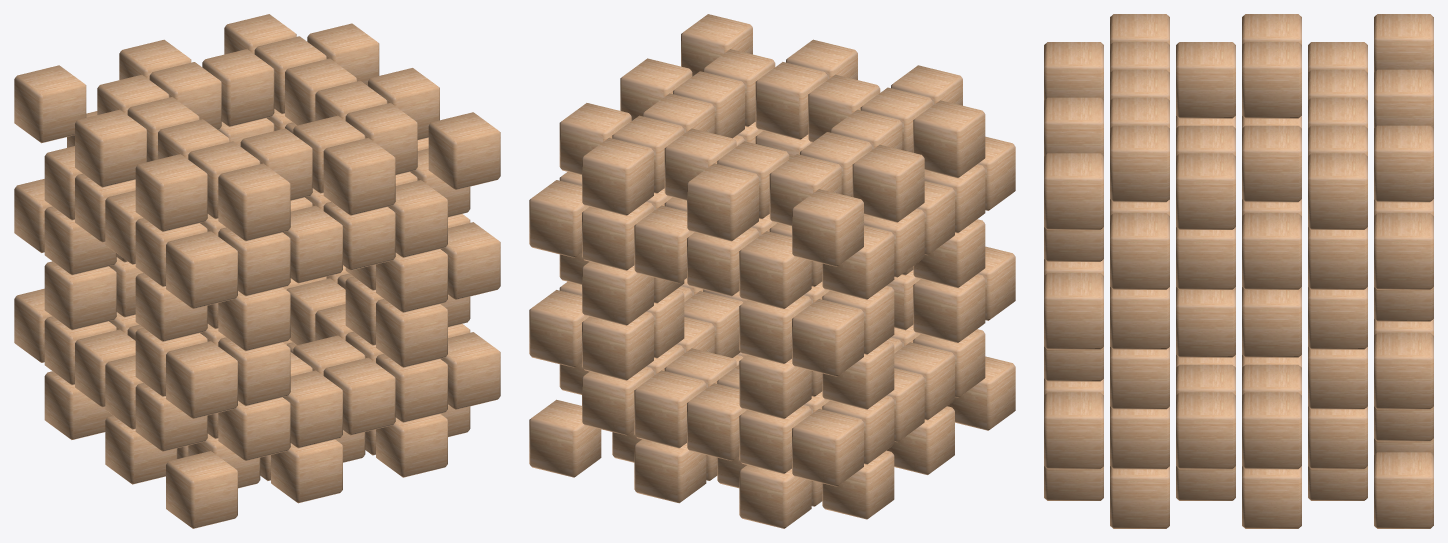
The model's file is level_121.fbx.
3 renders of one model, left to right at view 1: azimuth 30°, elevation 25°; view 2: azimuth 150°, elevation 25°; view 3: azimuth 270°, elevation 25°, orthographic. The views are drawn at different scales.
Visible parts, largest first — view 1: Cube.182, Cube.186, Cube.184, Cube.187, Cube.042, Cube.073, Cube.145, Cube.211, Cube.199, Cube.097, Cube.077, Cube.208 (+56 smaller); view 2: Cube.211, Cube.067, Cube.215, Cube.139, Cube.213, Cube.187, Cube.199, Cube.035, Cube.176, Cube.079, Cube.107, Cube.190 (+56 smaller); view 3: Cube.054, Cube.060, Cube.203, Cube.041, Cube.108, Cube.191, Cube.215, Cube.194, Cube.200, Cube.186, Cube.198, Cube.210 (+51 smaller).
Boxes of the visible parts, x1,y1,x2,y2 form: Cube.182: [218, 163, 290, 241]; Cube.186: [428, 112, 500, 189]; Cube.184: [323, 138, 395, 215]; Cube.187: [135, 154, 207, 231]; Cube.042: [166, 451, 237, 528]; Cube.073: [166, 341, 237, 418]; Cube.145: [166, 231, 237, 308]; Cube.211: [14, 65, 86, 143]; Cube.199: [75, 109, 146, 187]; Cube.097: [44, 261, 116, 330]; Cube.077: [376, 299, 447, 367]; Cube.208: [202, 49, 274, 126]; Cube.211: [792, 189, 863, 266]; Cube.067: [792, 409, 863, 486]; Cube.215: [582, 138, 653, 215]; Cube.139: [792, 299, 863, 376]; Cube.213: [687, 163, 758, 241]; Cube.187: [913, 100, 985, 177]; Cube.199: [852, 144, 924, 222]; Cube.035: [529, 399, 601, 477]; Cube.176: [739, 231, 811, 308]; Cube.079: [913, 274, 985, 342]; Cube.107: [582, 311, 653, 380]; Cube.190: [755, 62, 827, 139]; Cube.054: [1176, 392, 1235, 469]; Cube.060: [1242, 392, 1301, 469]; Cube.203: [1242, 125, 1301, 202]; Cube.041: [1044, 392, 1103, 469]; Cube.108: [1374, 332, 1433, 409]; Cube.191: [1110, 125, 1169, 202]; Cube.215: [1374, 125, 1433, 202]; Cube.194: [1176, 42, 1235, 118]; Cube.200: [1242, 42, 1301, 118]; Cube.186: [1044, 153, 1103, 229]; Cube.198: [1176, 153, 1235, 229]; Cube.210: [1308, 153, 1367, 229].
Bounding box in the file's own units: 13 × 13 × 13.
